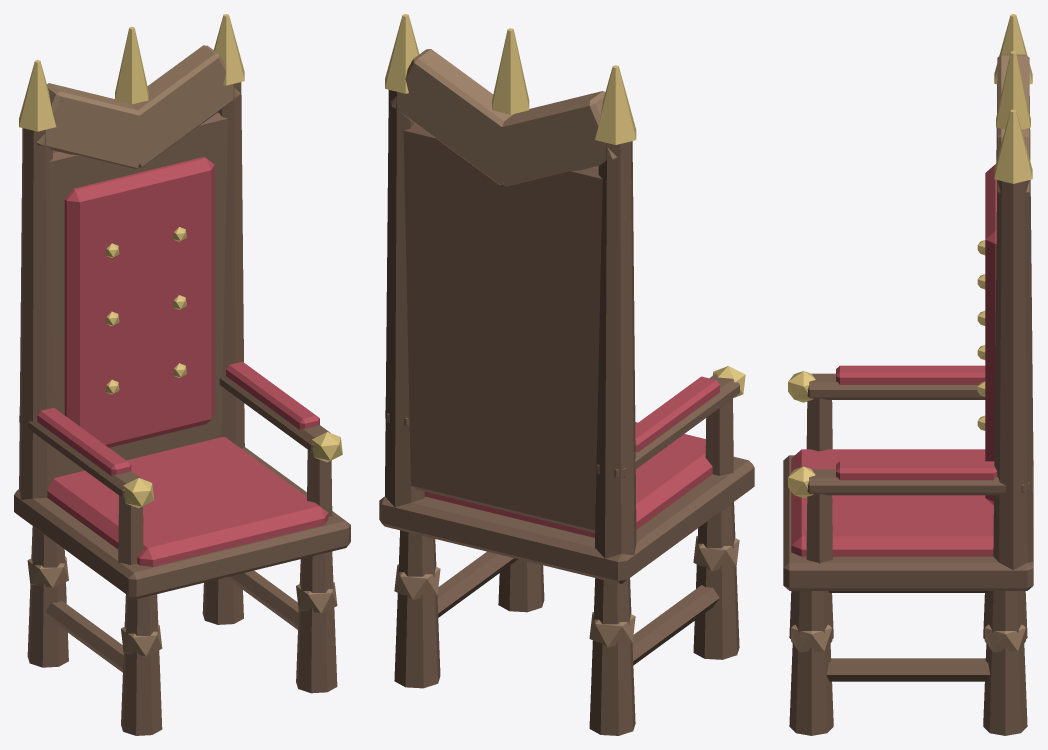
Rendered from castle_chair.glb.
3 views of the same model, side by side, from view 1: azimuth 30°, elevation 25°; view 2: azimuth 150°, elevation 25°; view 3: azimuth 270°, elevation 25° (orthographic). The views are drawn at different scales.
Visible parts, largest first — view 1: Castle_Chair; view 2: Castle_Chair; view 3: Castle_Chair.
Part boxes in pixels (x1,y1,x2,y2): Castle_Chair: [14, 14, 350, 735]; Castle_Chair: [379, 14, 754, 735]; Castle_Chair: [783, 14, 1033, 735].
Bounding box in the file's own units: 0.8174 × 2.1 × 0.7564.
